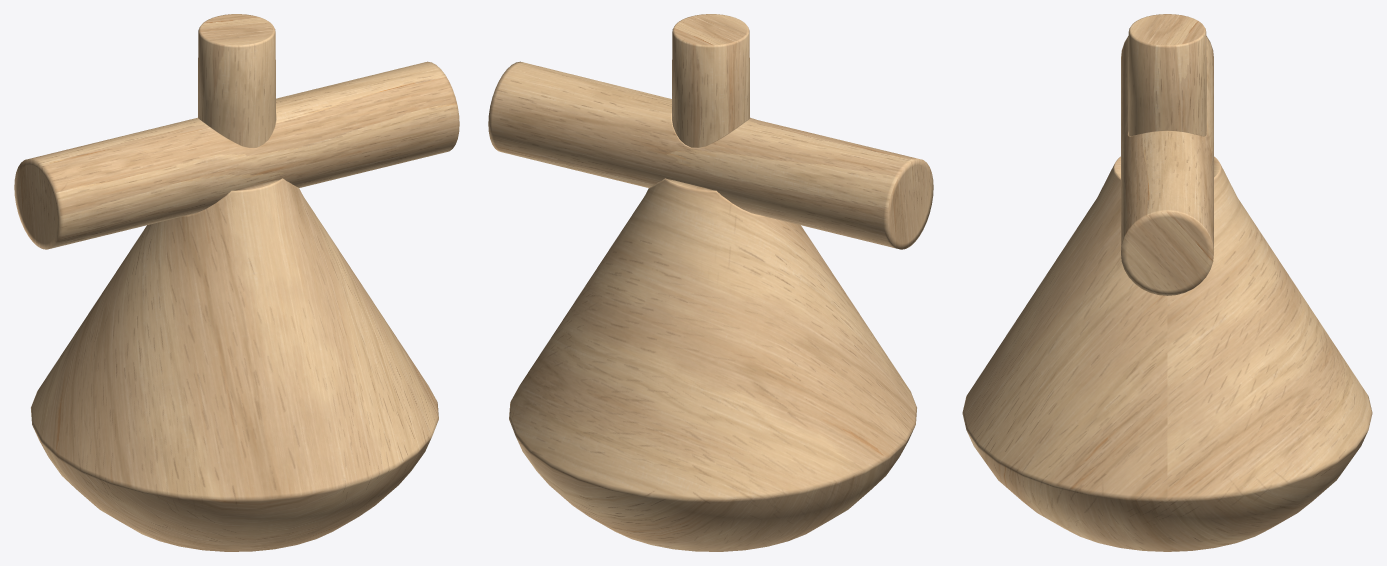
File: BF_hangeul3.glb
3 renders of one model, left to right at view 1: azimuth 30°, elevation 25°; view 2: azimuth 150°, elevation 25°; view 3: azimuth 270°, elevation 25°, orthographic.
Parts seen in each view (by area): view 1: BF_hangeul3.model; view 2: BF_hangeul3.model; view 3: BF_hangeul3.model.
Boxes of the visible parts, x1,y1,x2,y2 form: BF_hangeul3.model: (14, 14, 459, 551); BF_hangeul3.model: (488, 14, 933, 551); BF_hangeul3.model: (962, 14, 1372, 551).
Bounding box in the file's own units: 0.0889 × 0.1061 × 0.0789.
Materials: 1 (1 with a texture image).
